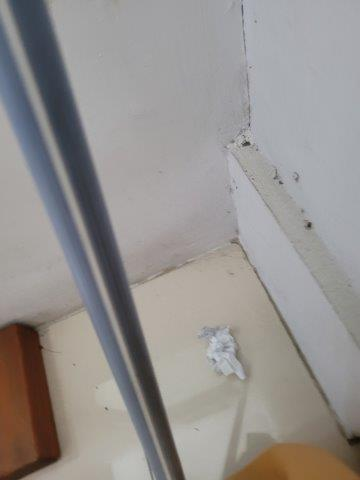kertas: (200, 327, 250, 383)
